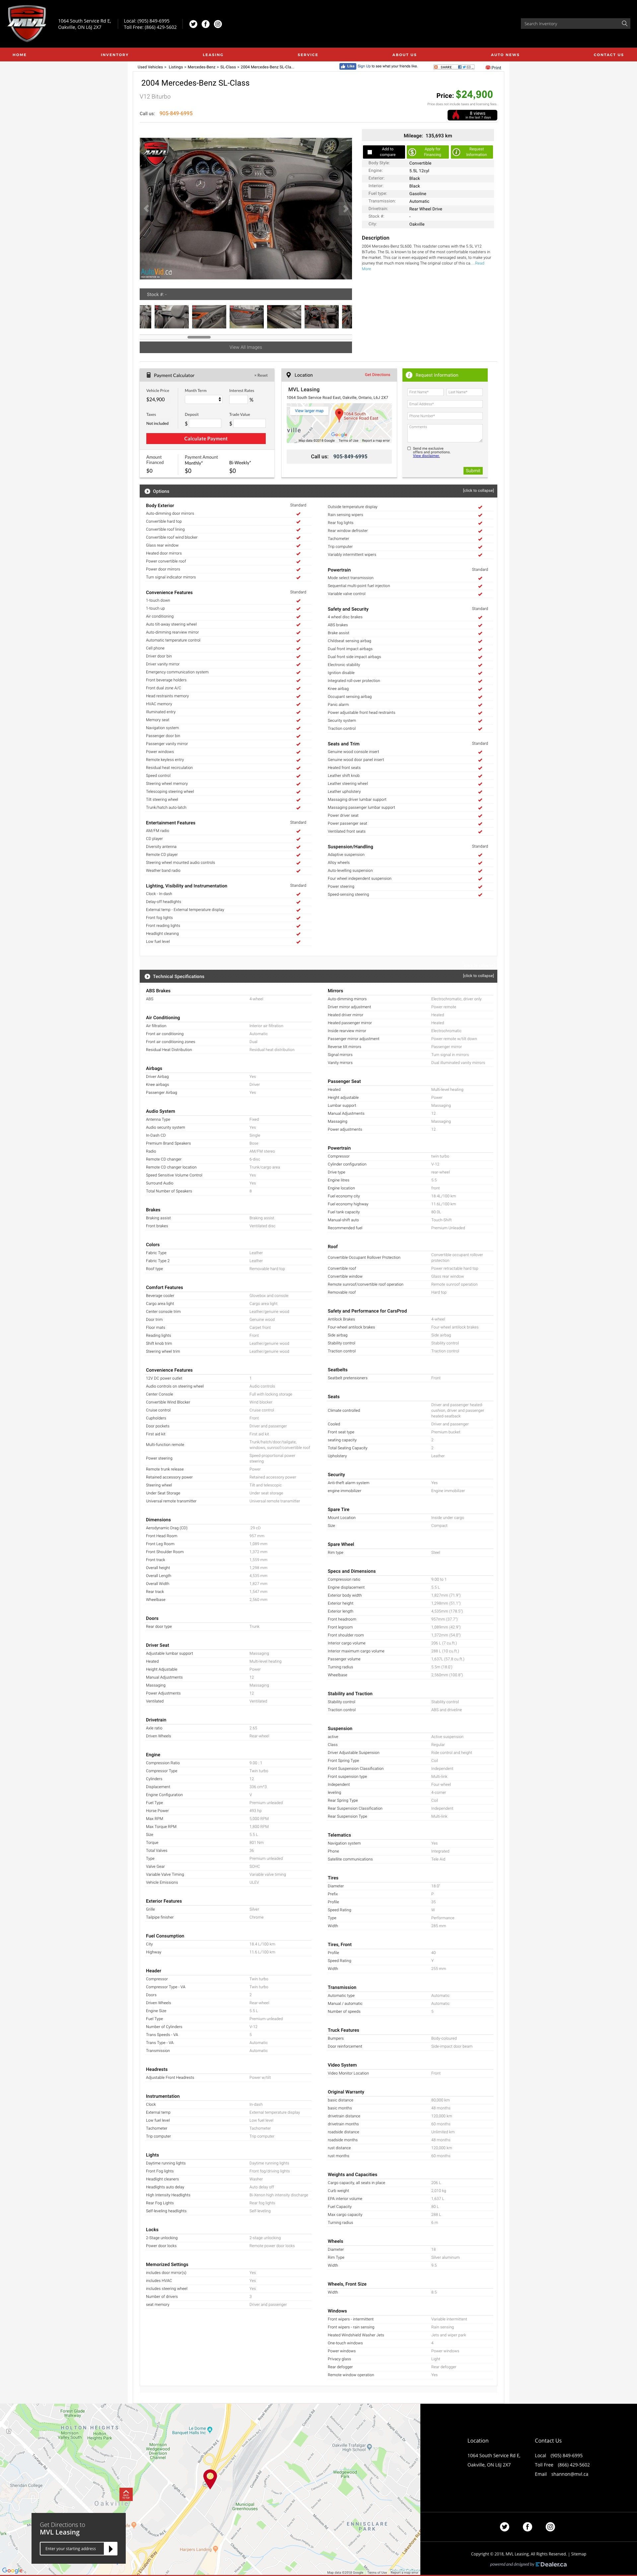car: (343, 205, 350, 214)
